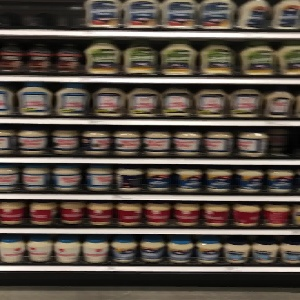void: (3, 1, 83, 31), (268, 129, 300, 160)
